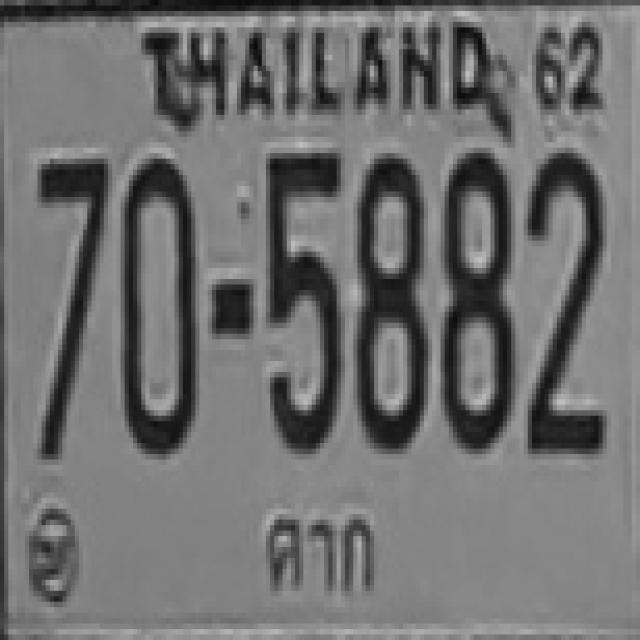0: (119, 156, 198, 451)
2: (524, 148, 602, 404), (524, 205, 602, 451)
5: (264, 148, 343, 322)
7: (33, 153, 108, 449), (33, 153, 108, 421), (33, 156, 108, 380)
8: (353, 150, 424, 446), (441, 150, 511, 446)
Tak: (259, 507, 383, 600)
